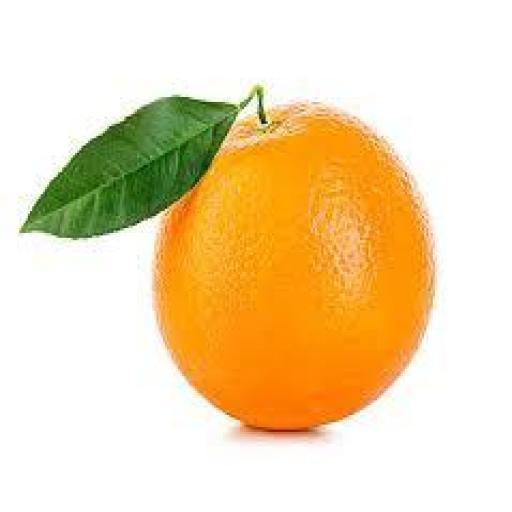orange: (155, 105, 434, 429)
